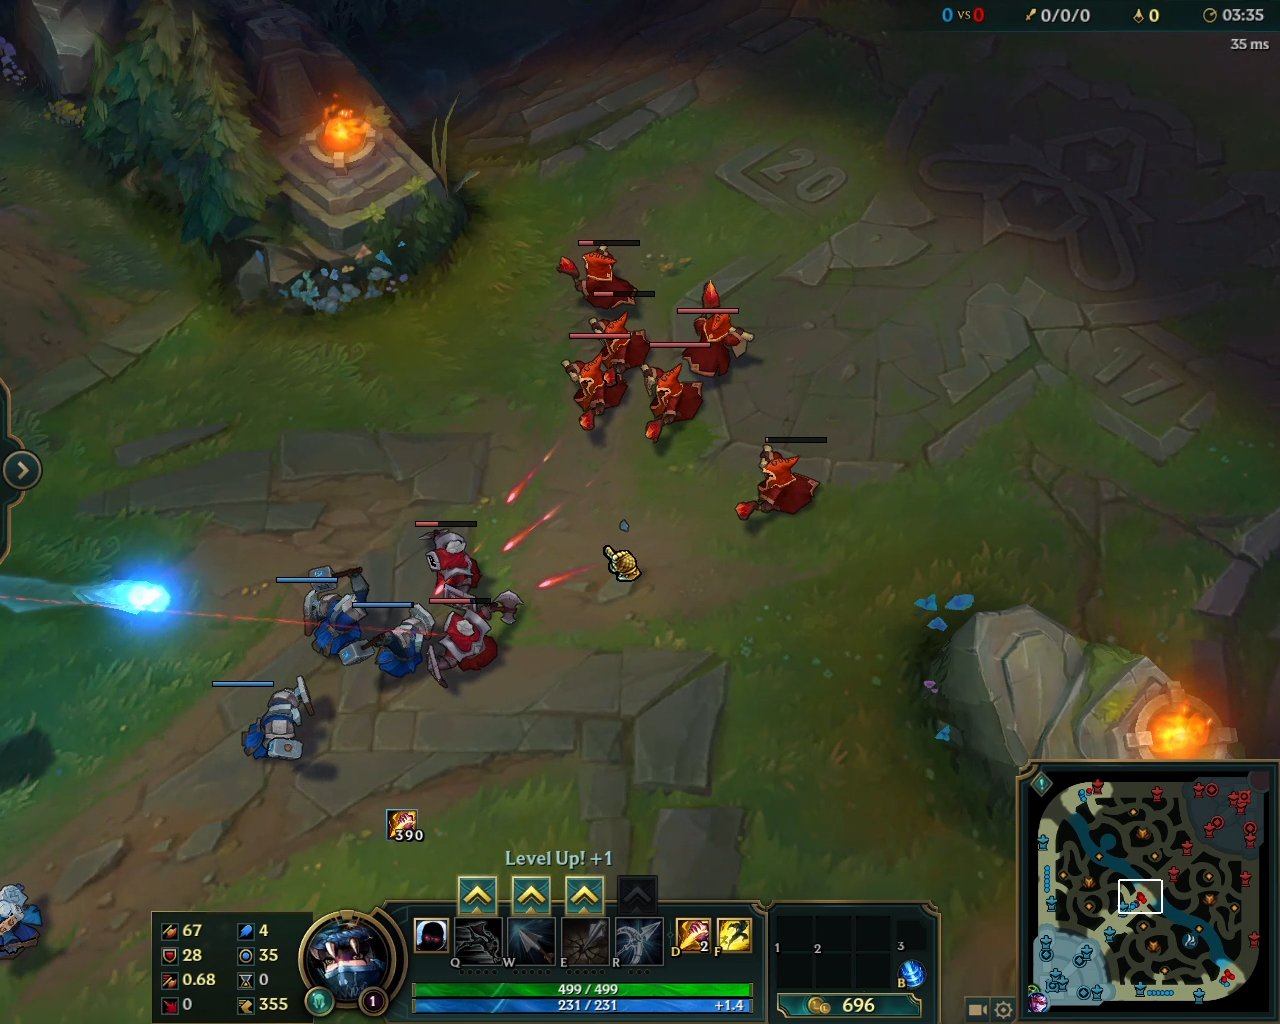EnemyMinion: (422, 591, 520, 690), (732, 438, 828, 522), (676, 279, 753, 378), (560, 333, 631, 438), (641, 342, 709, 447), (561, 240, 641, 320), (414, 519, 486, 601), (588, 288, 653, 374)
